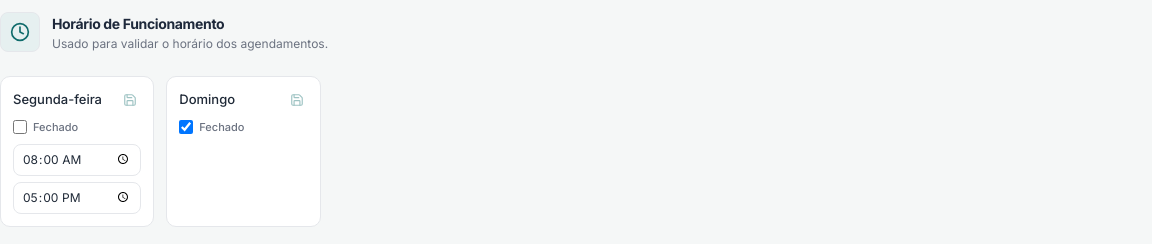
it: <BusinessHoursPanel> › não salva e mostra erro quando desmarca fechado sem informar os horários
Click the checkbox labelled "Fechado" below "Domingo" at (186, 127), box x1=179 y1=120 x2=193 y2=134
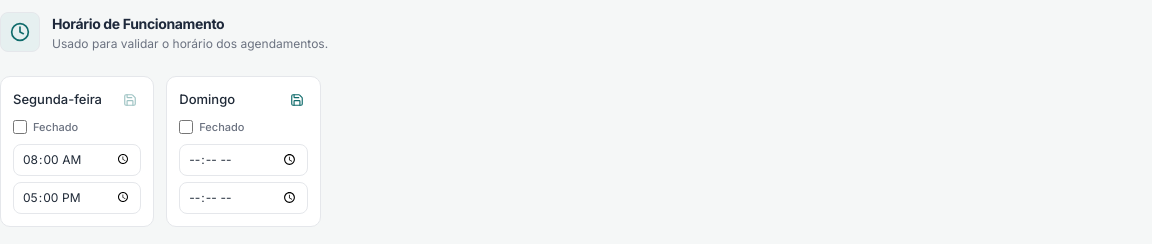
Click the button titled "Salvar horário" next to "Domingo" at (297, 100), box x1=286 y1=89 x2=308 y2=111
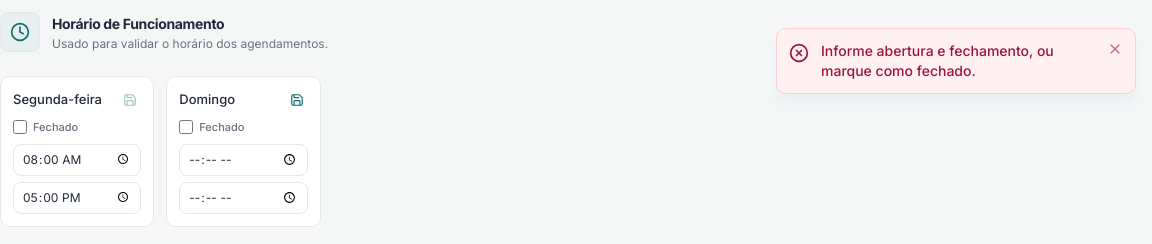
Expected: the text "Informe abertura e fechamento, ou marque como fechado." is shown, x1=821 y1=42 x2=1054 y2=79
